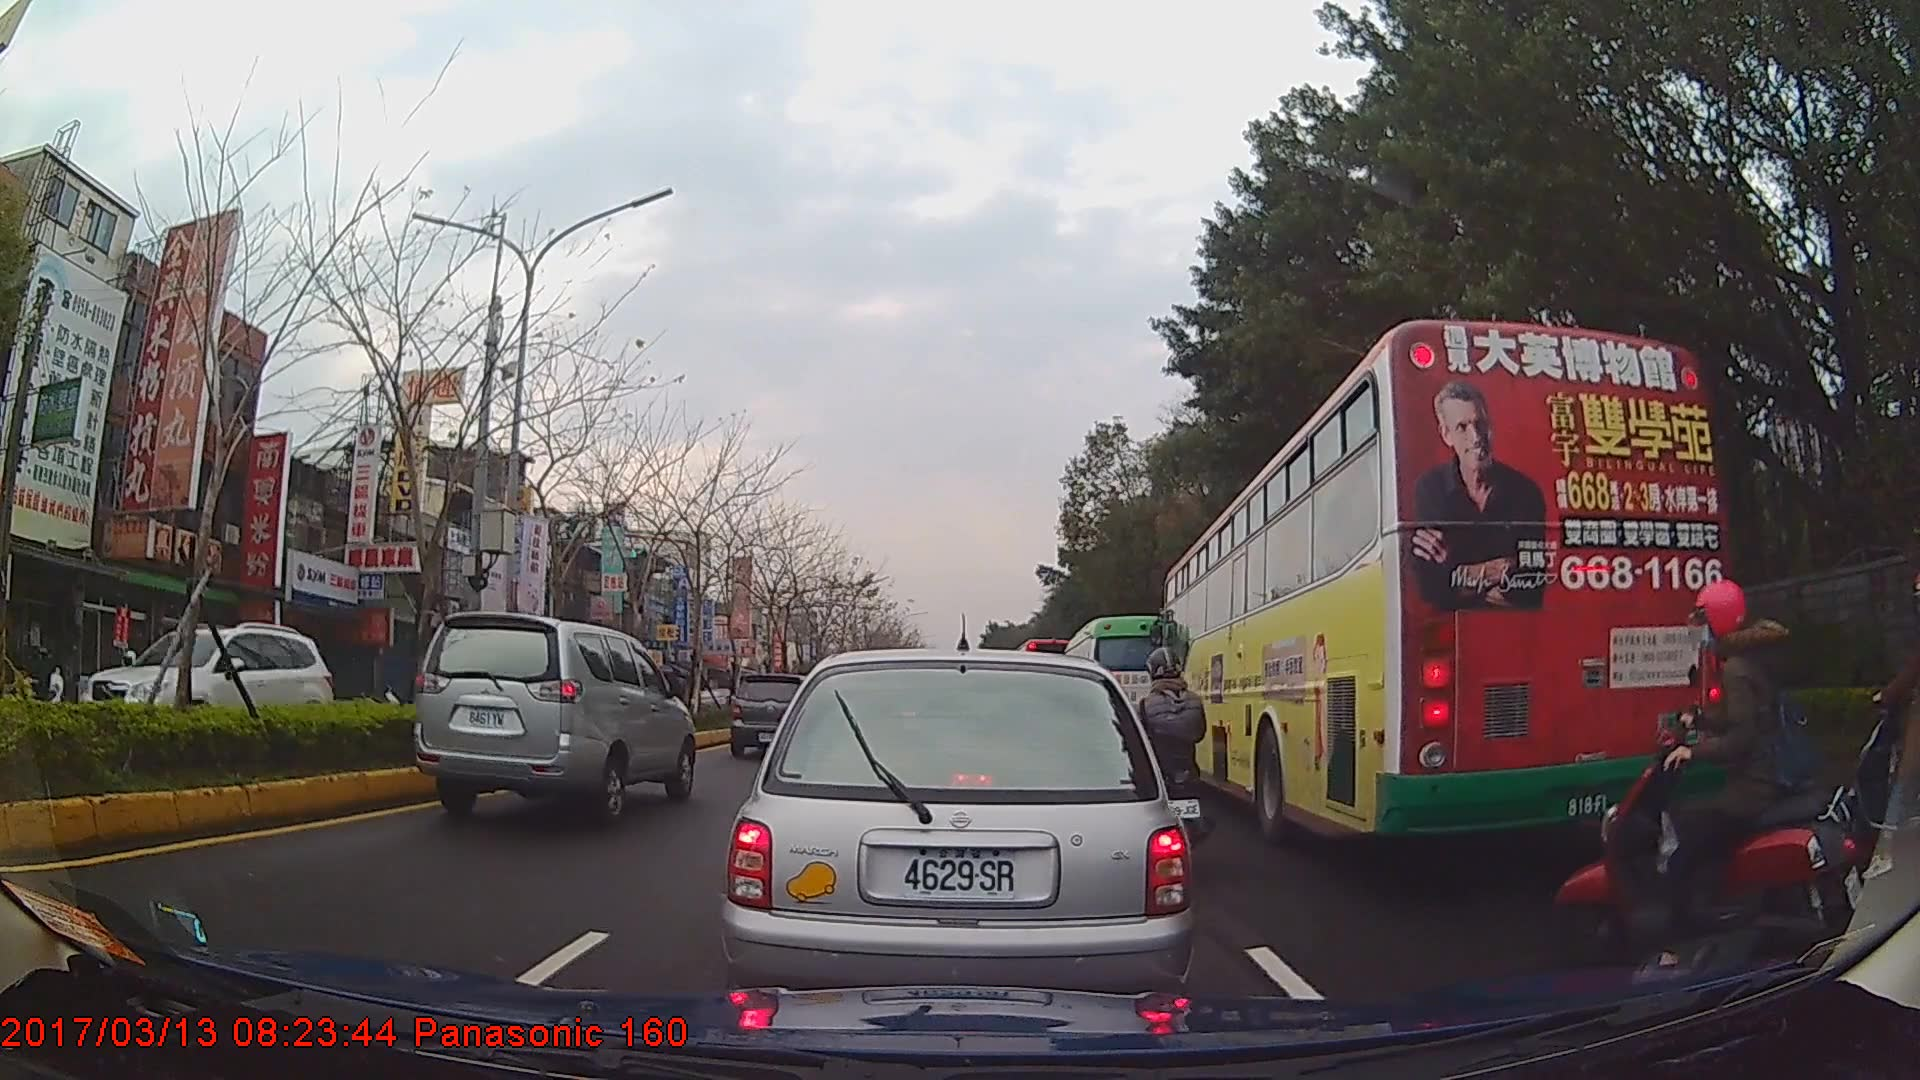rider: (1557, 576, 1865, 981), (1834, 571, 1920, 893), (1128, 646, 1208, 860), (27, 647, 62, 706)
vehicle: (1160, 316, 1732, 839), (723, 645, 1190, 1026), (411, 610, 696, 823), (79, 619, 332, 752), (1062, 613, 1187, 769), (728, 672, 813, 757)
